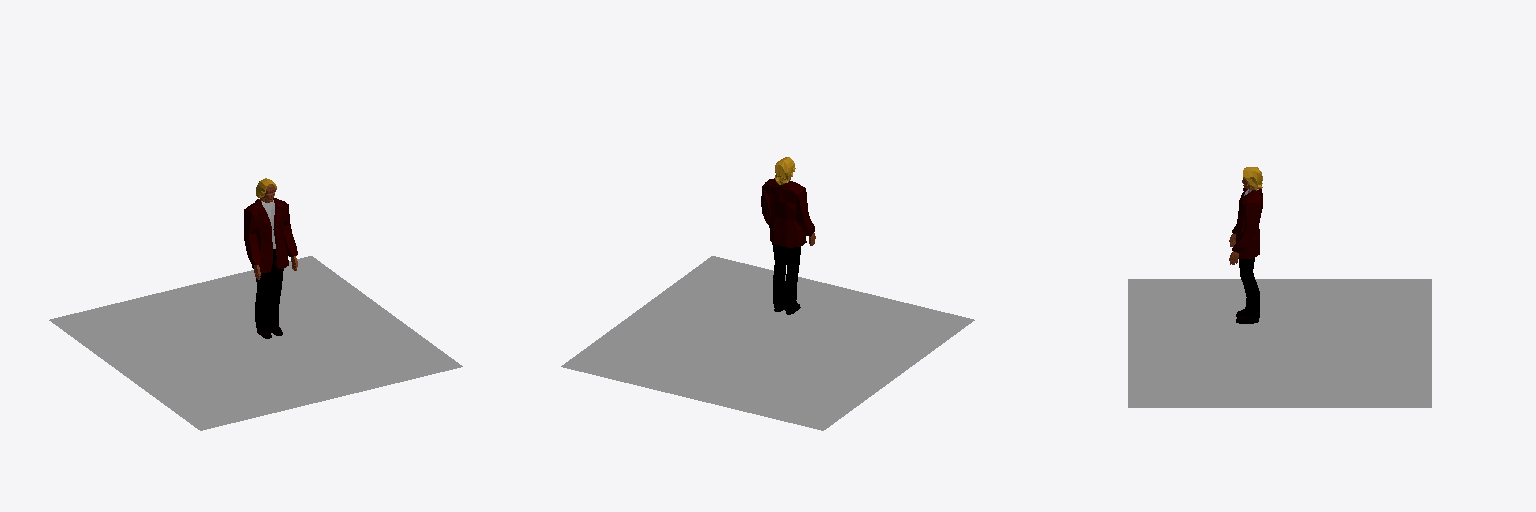
File: human_man_1.2.obj
3 renders of one model, left to right at view 1: azimuth 30°, elevation 25°; view 2: azimuth 150°, elevation 25°; view 3: azimuth 270°, elevation 25°, orthographic.
Parts seen in each view (by area): view 1: Plane, Cube.002_Cube.001; view 2: Plane, Cube.002_Cube.001; view 3: Plane, Cube.002_Cube.001.
Part boxes in pixels (x1,y1,x2,y2): Plane: (49,256,462,430); Cube.002_Cube.001: (244,178,297,338); Plane: (561,256,974,430); Cube.002_Cube.001: (761,157,815,314); Plane: (1128,279,1431,407); Cube.002_Cube.001: (1229,167,1262,323).
Bounding box in the file's own units: 8.39 × 5.32 × 8.39.